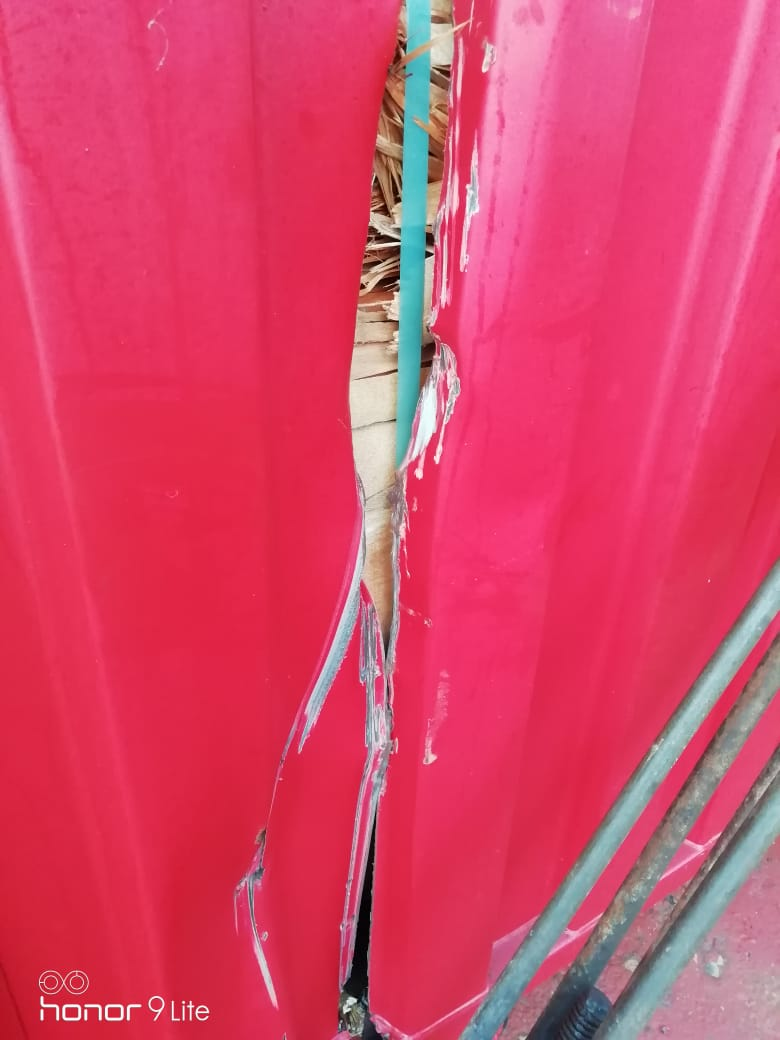cut: (327, 1, 474, 984)
